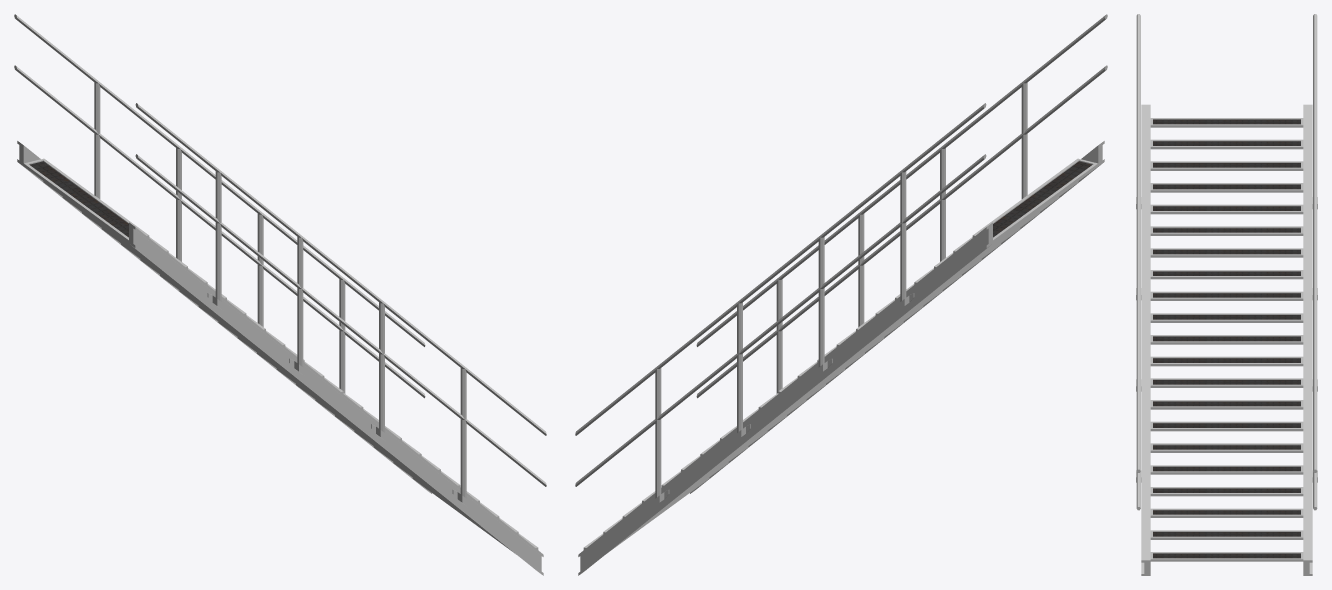
The model's file is SM_Metall_Steps_A.fbx.
3 renders of one model, left to right at view 1: azimuth 30°, elevation 25°; view 2: azimuth 150°, elevation 25°; view 3: azimuth 270°, elevation 25°, orthographic. The views are drawn at different scales.
Parts seen in each view (by area): view 1: SM_Metall_Steps_A, SM_Handrail_Steps_A_L, SM_Handrail_Steps_A_R; view 2: SM_Metall_Steps_A, SM_Handrail_Steps_A_R, SM_Handrail_Steps_A_L; view 3: SM_Metall_Steps_A, SM_Handrail_Steps_A_R, SM_Handrail_Steps_A_L.
Part boxes in pixels (x1,y1,x2,y2): SM_Metall_Steps_A: (17, 141, 543, 575); SM_Handrail_Steps_A_L: (135, 103, 546, 507); SM_Handrail_Steps_A_R: (14, 14, 425, 398); SM_Metall_Steps_A: (578, 141, 1104, 575); SM_Handrail_Steps_A_R: (575, 103, 986, 507); SM_Handrail_Steps_A_L: (696, 14, 1107, 398); SM_Metall_Steps_A: (1141, 104, 1312, 575); SM_Handrail_Steps_A_R: (1312, 14, 1317, 510); SM_Handrail_Steps_A_L: (1136, 14, 1141, 510).
Size of the model in its own units: 401 by 537 by 212.
